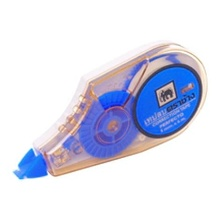correction_fluid: (10, 36, 210, 183)
